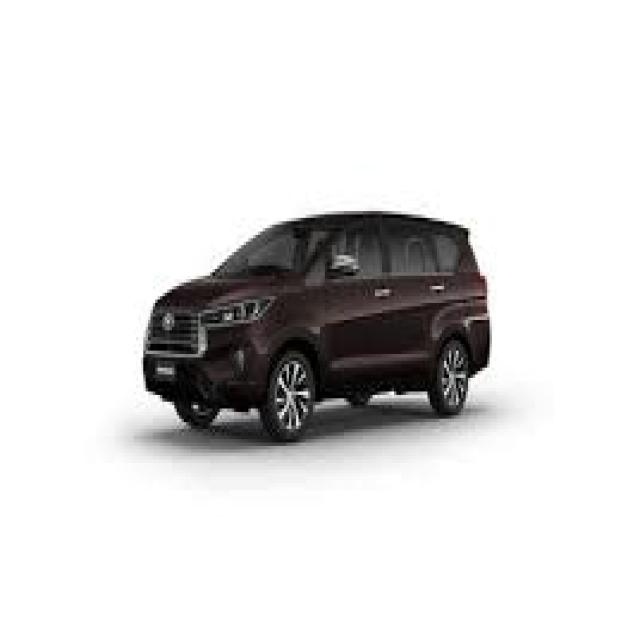light_vehicle: (143, 210, 492, 442)
